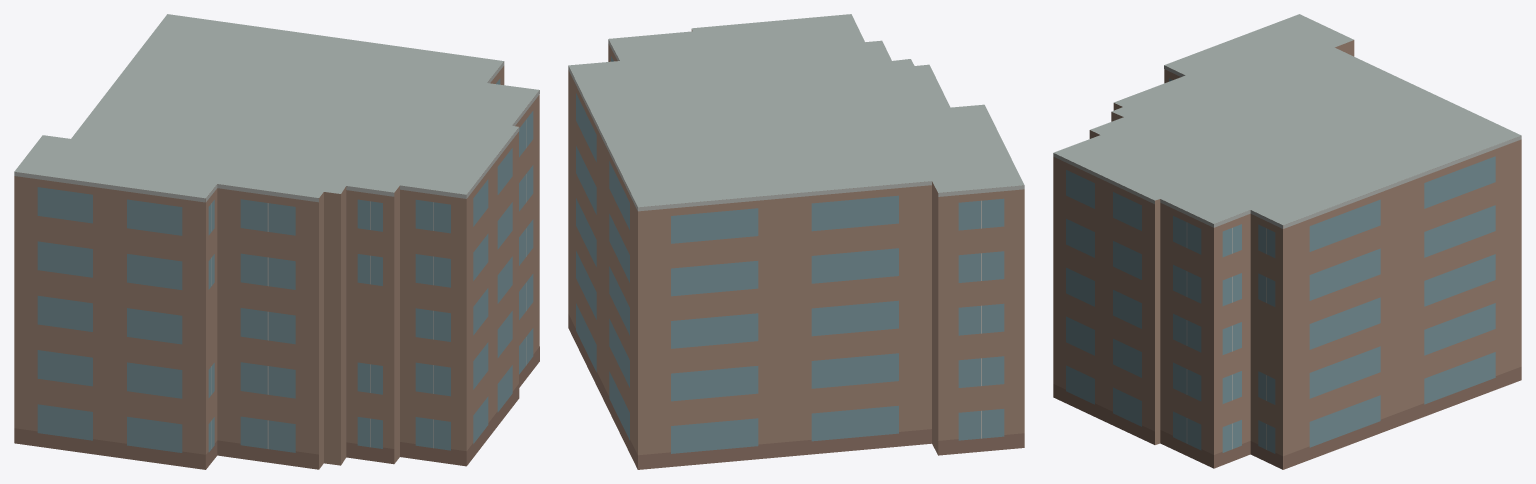
File: survey-upis-32683200.glb
3 views of the same model, side by side, from view 1: azimuth 30°, elevation 25°; view 2: azimuth 150°, elevation 25°; view 3: azimuth 270°, elevation 25° (orthographic). The views are drawn at different scales.
Visible parts, largest first — view 1: survey-upis-32683200.tmp; view 2: survey-upis-32683200.tmp; view 3: survey-upis-32683200.tmp.
Boxes of the visible parts, <box> form: survey-upis-32683200.tmp: <box>14,14,539,469</box>; survey-upis-32683200.tmp: <box>568,14,1024,469</box>; survey-upis-32683200.tmp: <box>1053,14,1521,469</box>.
Size of the model in its own units: 29.29 by 15.8 by 27.44.
